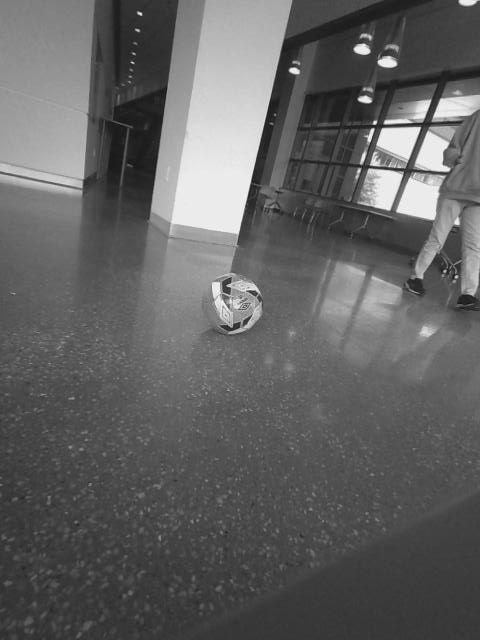ball: (201, 271, 266, 337)
